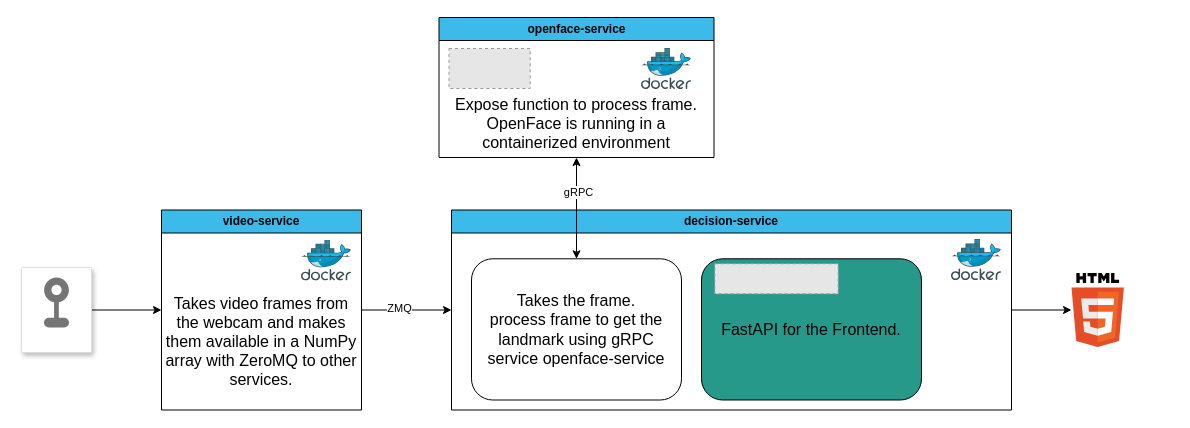
Some shapes in this 1190 by 428 pixel diagram are drawn without their labels. Grey dashed boxes stand in for pictures. The centre of each missing label's shape, as x and y in pixels:
"WebApp as frontend" goes at pixel 1097 309.
"Webcam" goes at pixel 57 311.
